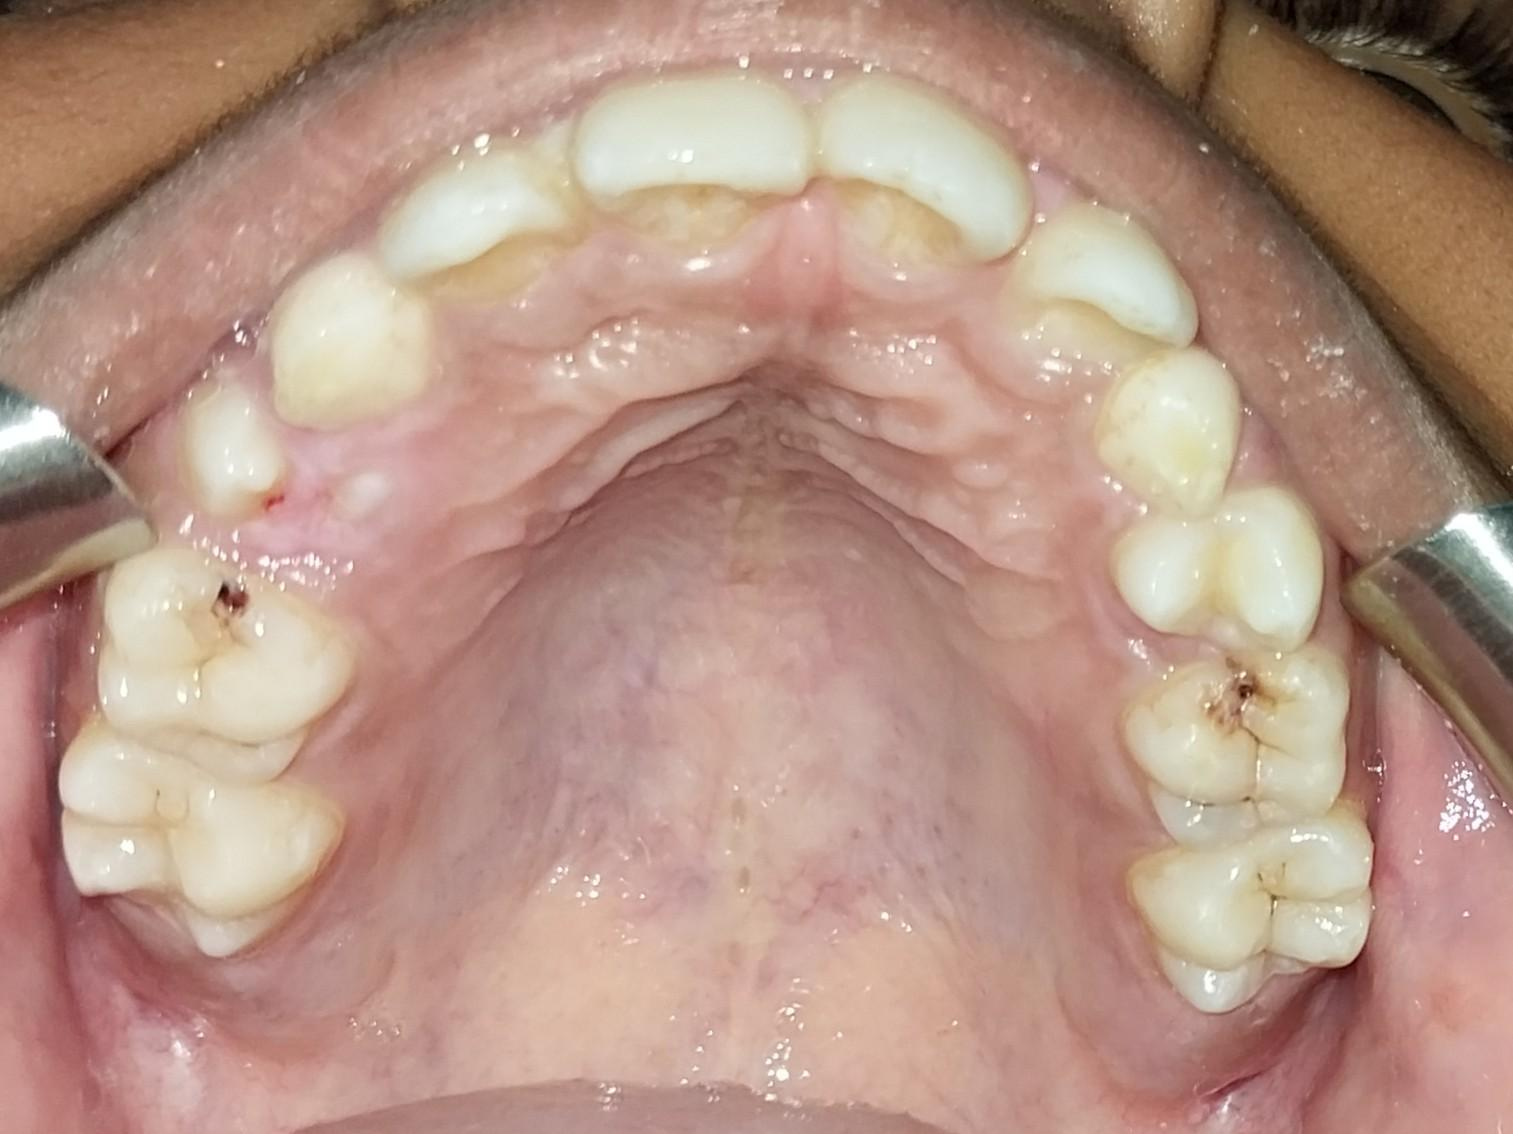d: (92, 548, 339, 792), (1138, 655, 1352, 841)
